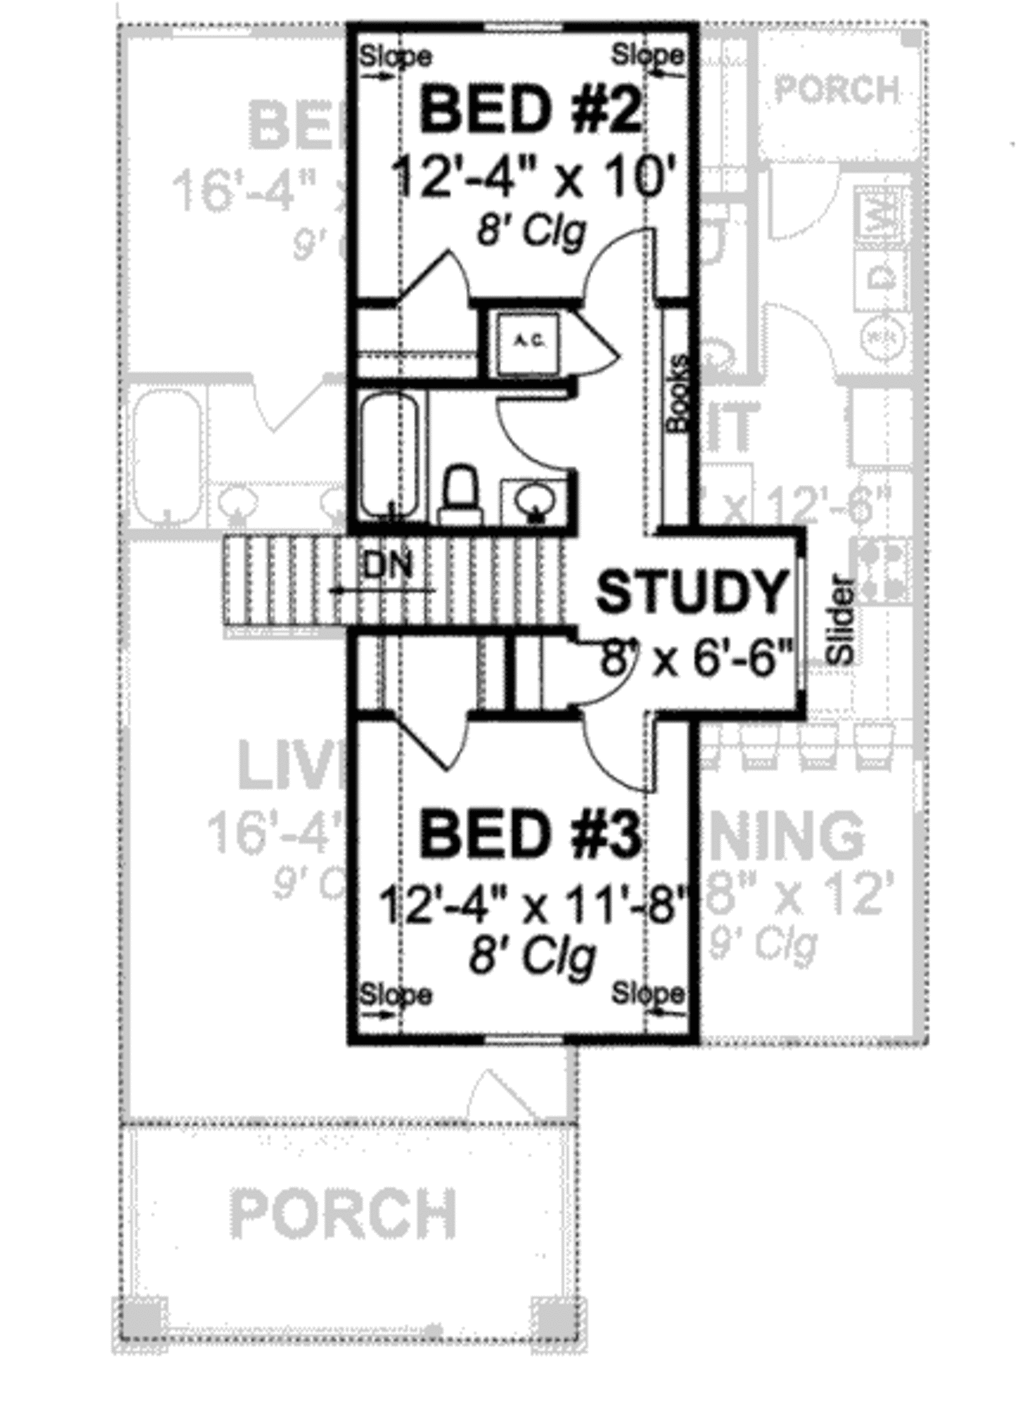door: (561, 713, 681, 809), (568, 208, 681, 309), (373, 693, 481, 790), (561, 615, 653, 711), (486, 388, 582, 473), (381, 248, 474, 309)
large_sink: (415, 453, 488, 533)
small_sink: (493, 469, 582, 538)
stairs: (201, 509, 590, 658)
tub: (353, 388, 433, 518)
window: (490, 19, 604, 50), (468, 1020, 573, 1053)
